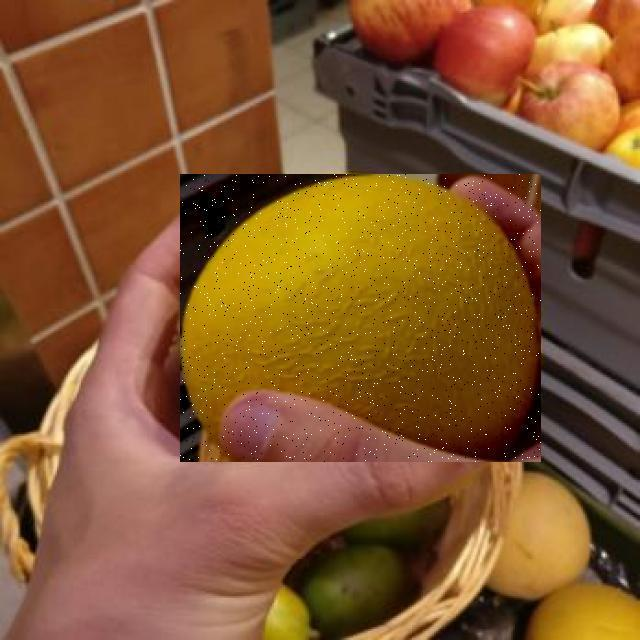Galia: (180, 174, 541, 462)
